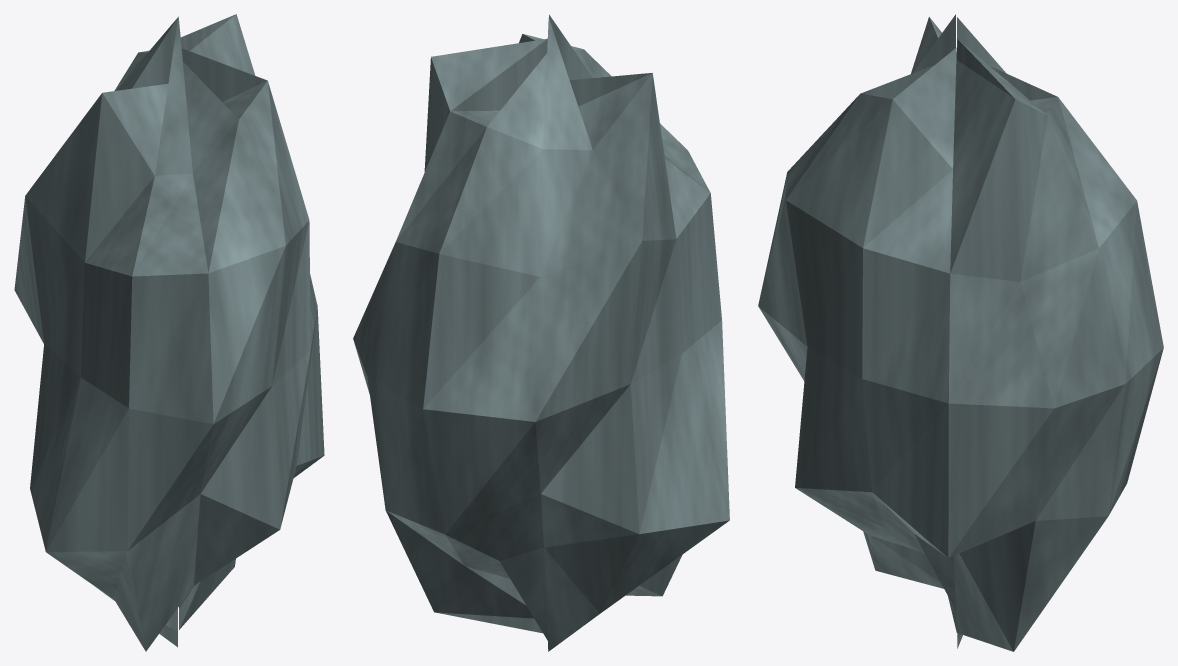
The model's file is cliff_formation_01.glb.
The picture shows the model from 3 angles, left to right: view 1: azimuth 30°, elevation 25°; view 2: azimuth 150°, elevation 25°; view 3: azimuth 270°, elevation 25°; orthographic projection.
Parts seen in each view (by area): view 1: rock; view 2: rock; view 3: rock.
Part boxes in pixels (bbox=[...]): rock: bbox=[14, 14, 324, 651]; rock: bbox=[353, 14, 729, 651]; rock: bbox=[758, 14, 1163, 651].
Bounding box in the file's own units: 15.57 × 31.23 × 18.07.
1 material, 1 textured.
